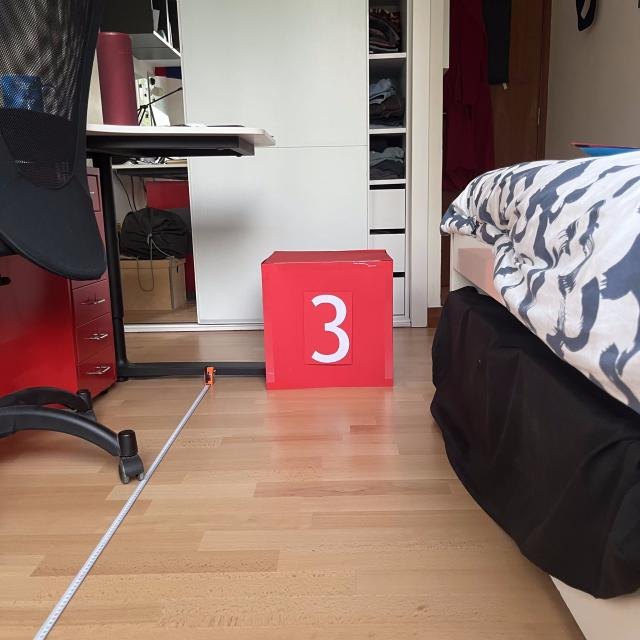box: (257, 246, 397, 392)
